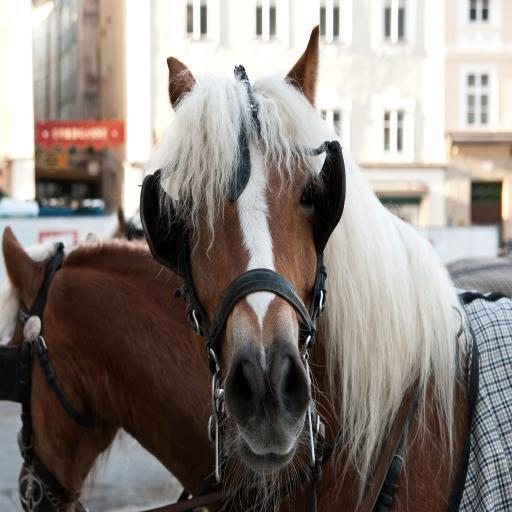horse: (147, 22, 476, 512), (0, 208, 216, 510)
